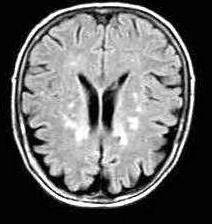Normal_Brain: (1, 1, 212, 224)
